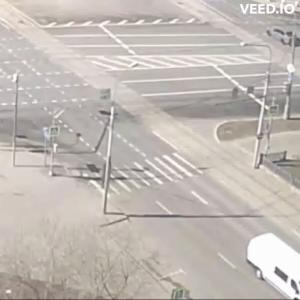car: (242, 233, 300, 296)
